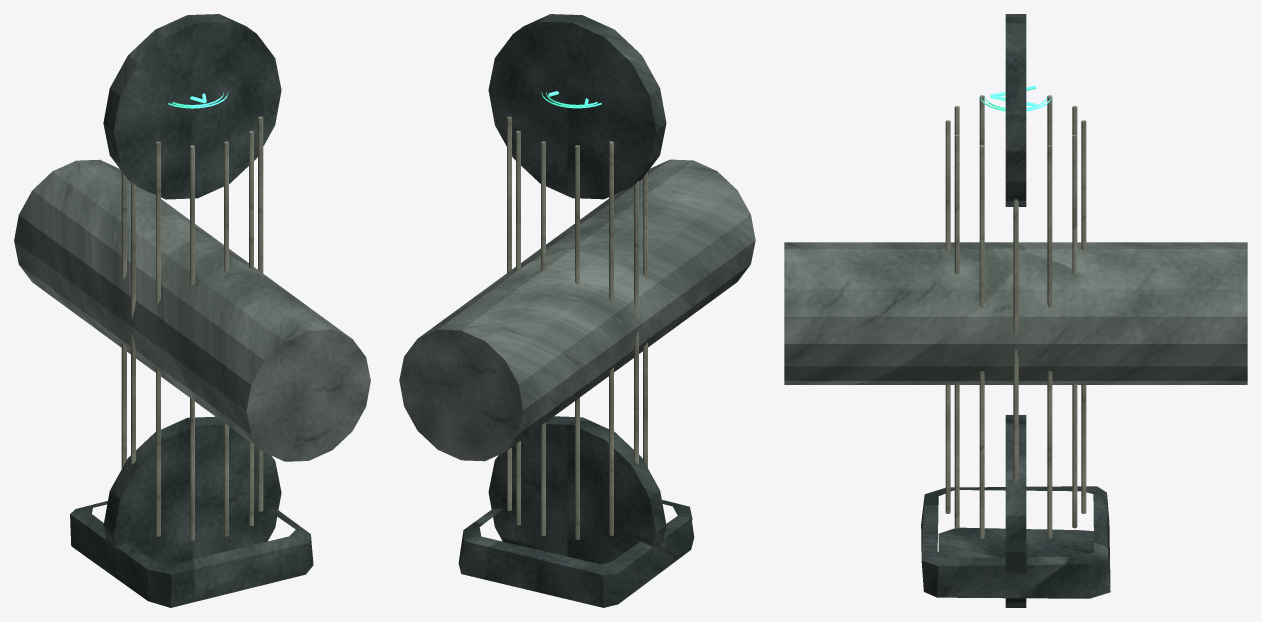
Rendered from 0285_fluted_column_10.glb.
3 views of the same model, side by side, from view 1: azimuth 30°, elevation 25°; view 2: azimuth 150°, elevation 25°; view 3: azimuth 270°, elevation 25° (orthographic).
Parts seen in each view (by area): view 1: stone_dark, stone, stone_light; view 2: stone, stone_dark, stone_light; view 3: stone, stone_dark, stone_light.
Boxes of the visible parts, left/top/right/bottom form: stone_dark: left=70, top=14, right=313, bottom=607; stone: left=14, top=159, right=370, bottom=461; stone_light: left=121, top=116, right=263, bottom=540; stone: left=399, top=159, right=755, bottom=461; stone_dark: left=458, top=14, right=694, bottom=607; stone_light: left=507, top=116, right=647, bottom=539; stone: left=784, top=242, right=1247, bottom=384; stone_dark: left=921, top=14, right=1110, bottom=607; stone_light: left=945, top=95, right=1086, bottom=538.
Size of the model in its own units: 1.3 by 4.29 by 3.13.
Materials: 4 (4 with a texture image).
